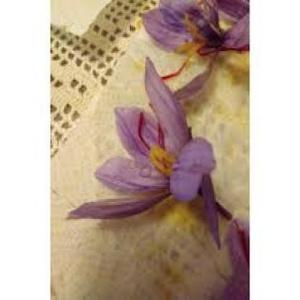Saffron: (68, 57, 219, 230), (143, 0, 251, 57)
